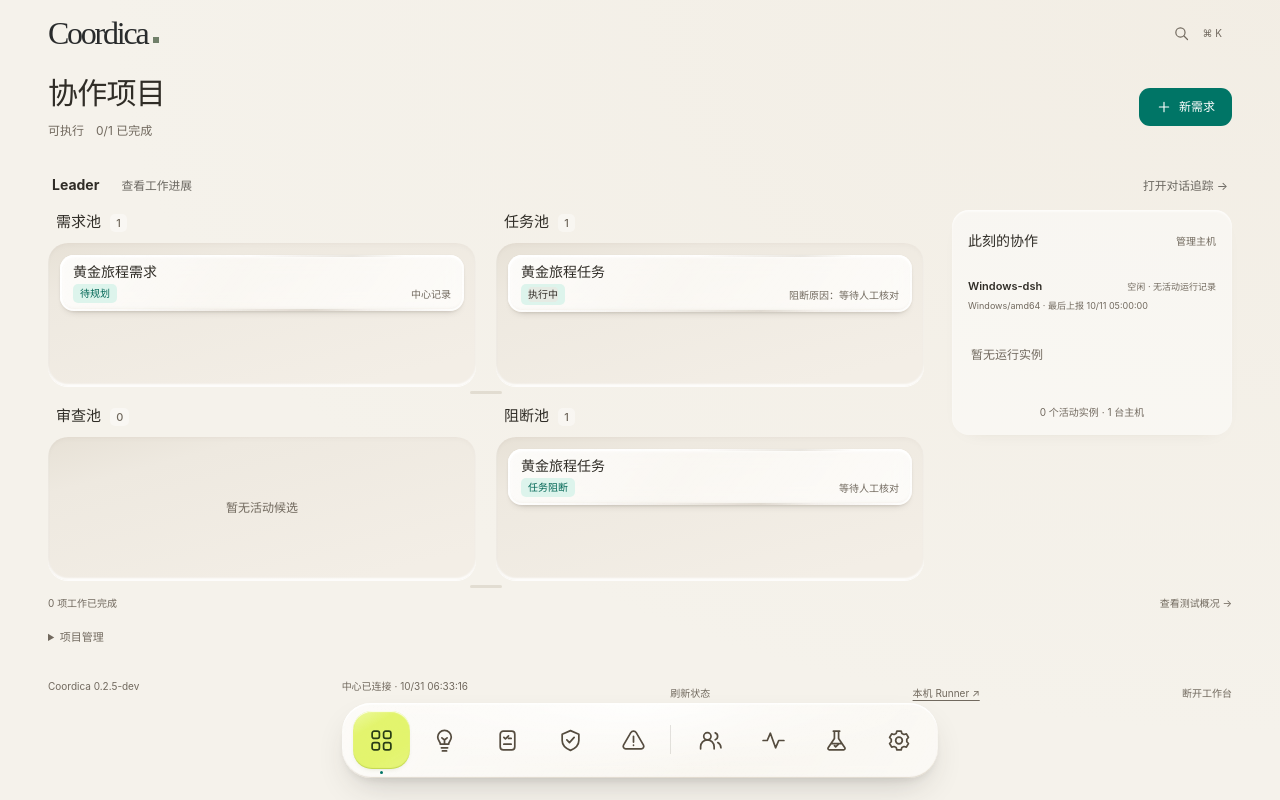
Scenario: 能力探测与真实活动实例分开呈现（有运行：false）
Expected: the heading "协作项目" is shown, left=48, top=74, right=165, bottom=113
Click the button named "Agent 管理" at (710, 740), box left=684, top=714, right=736, bottom=766
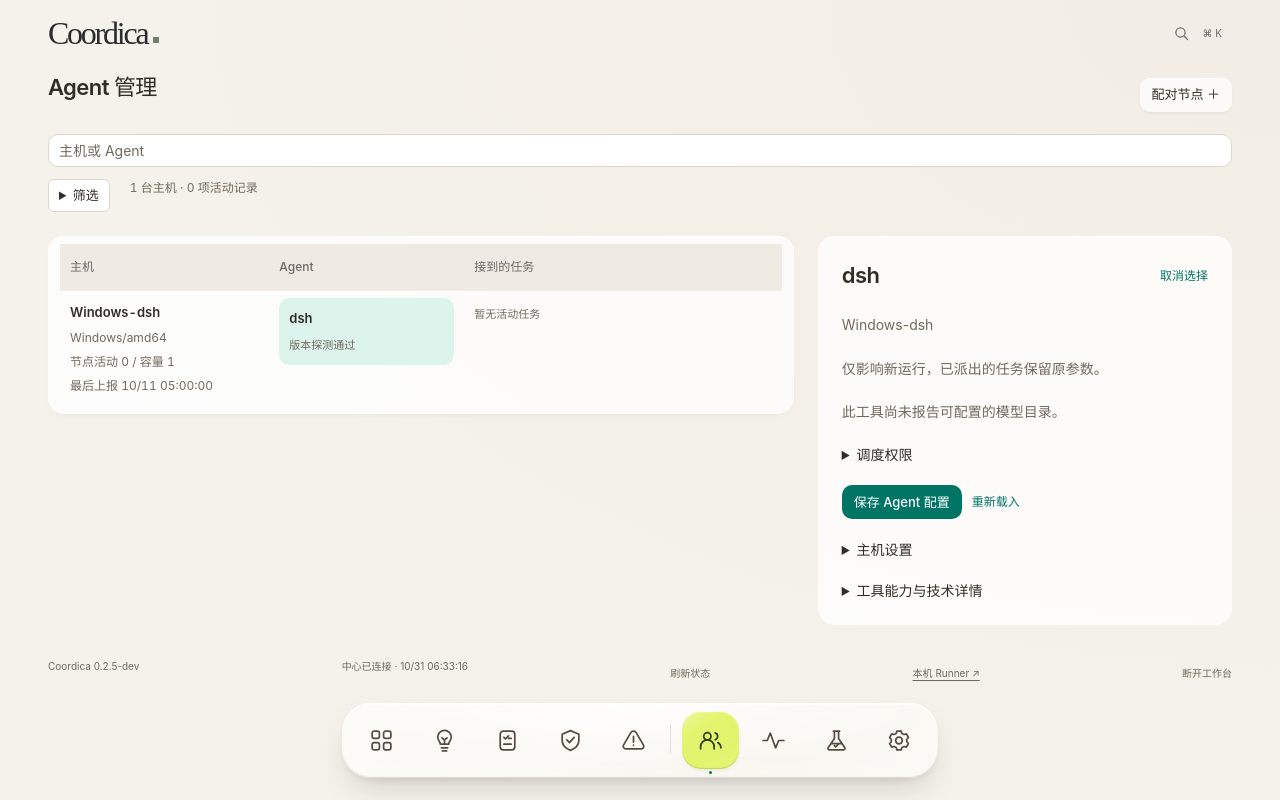
Expected: the heading "Agent 管理" is shown, left=48, top=74, right=157, bottom=102
Click the heading "工具能力与技术详情" at (920, 590), box left=856, top=582, right=982, bottom=599
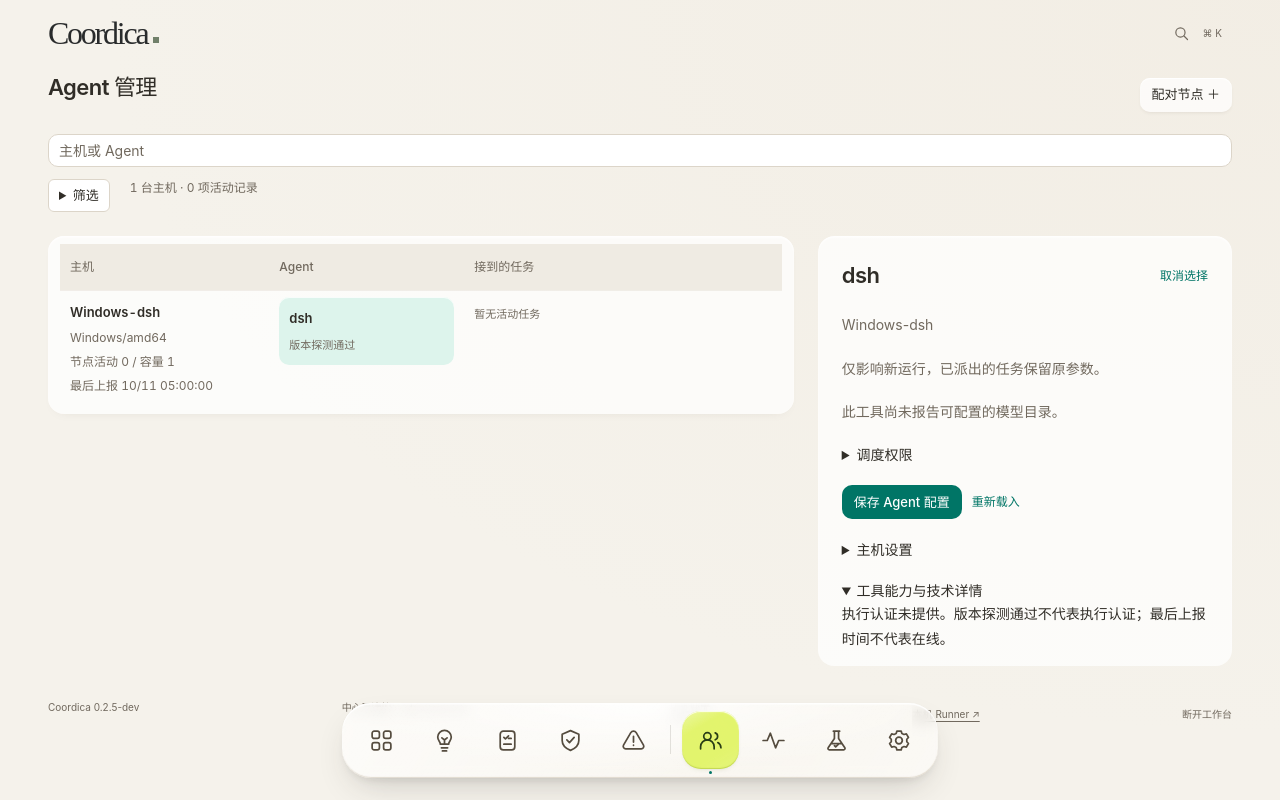
Expected: the text "版本探测通过" is shown, left=289, top=338, right=355, bottom=352
Expected: the text "执行认证未提供" is shown, left=842, top=605, right=940, bottom=622
Expected: the text "执行认证未提供。版本探测通过不代表执行认证；最后上报时间不代表在线。" is shown, left=842, top=601, right=1208, bottom=651
